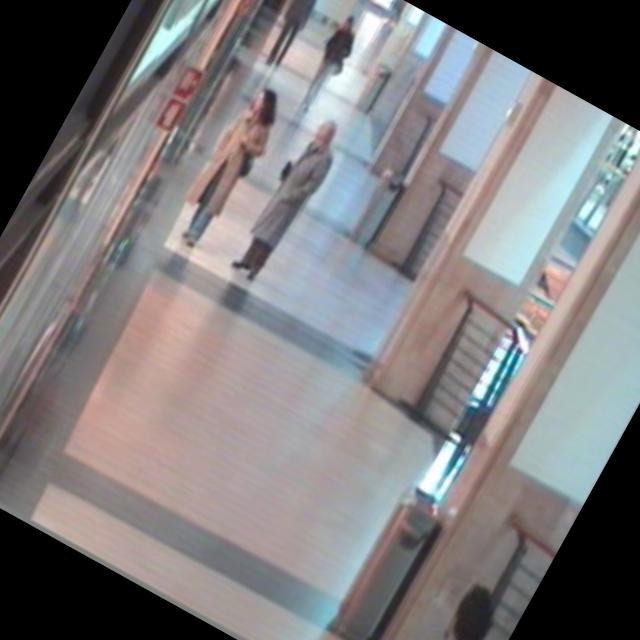person: (215, 101, 362, 300), (153, 70, 296, 270), (336, 534, 533, 640), (284, 4, 377, 128), (248, 0, 342, 81)
